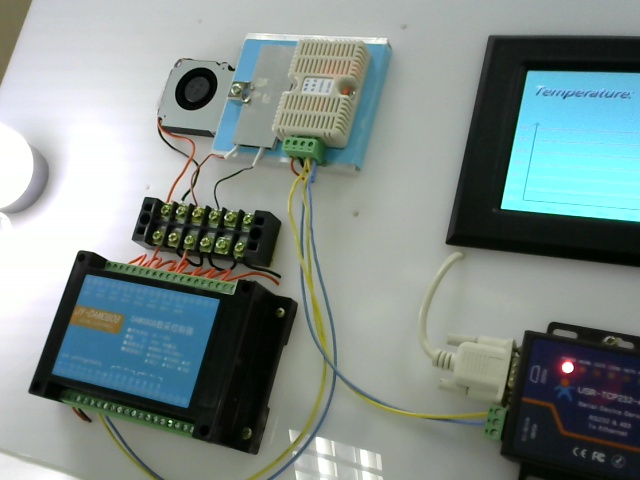fan: (152, 59, 231, 141)
relay: (15, 251, 287, 449)
termperature: (277, 40, 362, 148)
